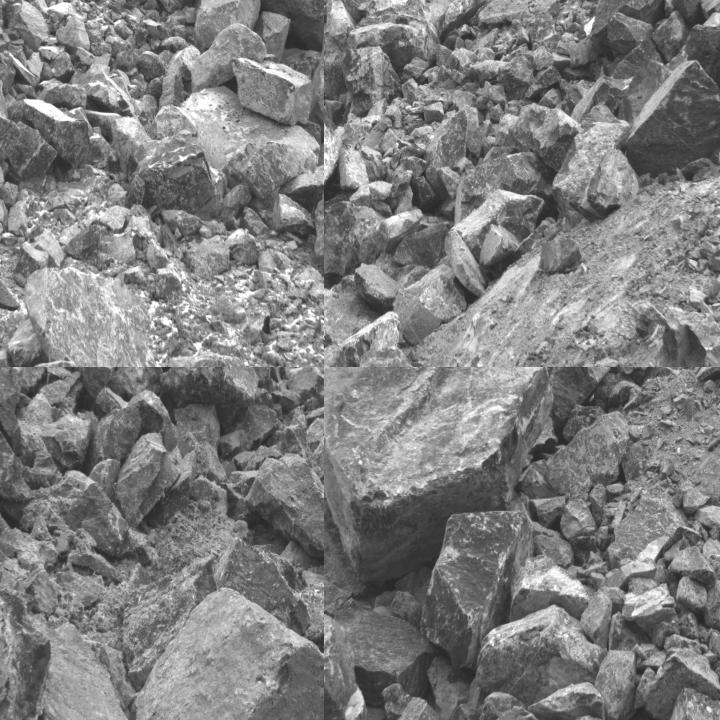stone: (324, 367, 559, 578), (134, 600, 323, 719), (422, 510, 534, 672), (453, 603, 607, 719), (186, 86, 316, 198), (23, 611, 156, 719), (22, 266, 159, 366), (119, 559, 214, 689), (622, 58, 719, 176), (216, 540, 323, 643), (336, 596, 434, 703), (20, 472, 132, 554), (153, 367, 287, 432), (246, 454, 323, 559), (546, 409, 628, 499), (607, 494, 699, 570), (0, 585, 51, 719), (114, 432, 182, 526), (395, 259, 468, 343), (228, 57, 315, 125), (134, 135, 214, 208), (324, 486, 368, 618), (519, 367, 610, 430), (13, 98, 93, 168), (347, 0, 440, 60), (0, 102, 57, 196), (632, 307, 719, 366), (508, 103, 581, 172), (189, 27, 265, 92), (324, 614, 368, 719), (324, 203, 382, 282), (0, 367, 50, 457), (341, 46, 401, 116), (0, 373, 31, 505), (324, 276, 370, 354), (424, 110, 468, 191), (586, 0, 669, 41), (90, 407, 142, 472), (191, 0, 261, 48), (38, 414, 93, 475), (336, 314, 400, 366), (588, 151, 641, 213), (689, 10, 719, 115), (622, 584, 679, 639), (528, 681, 607, 719), (595, 650, 638, 719), (394, 222, 449, 270), (265, 404, 311, 459), (355, 263, 400, 314), (82, 73, 135, 116), (5, 0, 49, 51), (173, 409, 219, 457), (383, 683, 440, 719), (188, 232, 231, 279), (255, 10, 292, 63), (652, 11, 690, 62), (379, 208, 423, 252), (668, 546, 718, 584), (272, 194, 315, 237), (689, 446, 719, 507), (608, 15, 656, 53), (147, 104, 197, 140), (481, 225, 521, 270), (580, 593, 612, 649), (600, 560, 656, 591), (469, 691, 530, 719), (562, 403, 606, 441), (339, 144, 375, 190), (609, 611, 649, 652), (502, 52, 536, 100), (341, 347, 421, 366), (540, 237, 581, 274), (287, 367, 323, 409), (111, 367, 162, 396), (224, 228, 262, 266), (89, 459, 121, 502), (75, 367, 117, 399), (38, 82, 87, 109), (57, 13, 90, 52), (0, 367, 47, 394), (64, 226, 102, 259), (526, 65, 562, 99), (219, 184, 252, 221), (162, 352, 249, 366), (161, 209, 203, 237), (467, 120, 492, 158), (400, 57, 430, 85), (308, 448, 323, 493), (148, 0, 192, 15), (435, 45, 460, 71), (705, 585, 719, 628)
